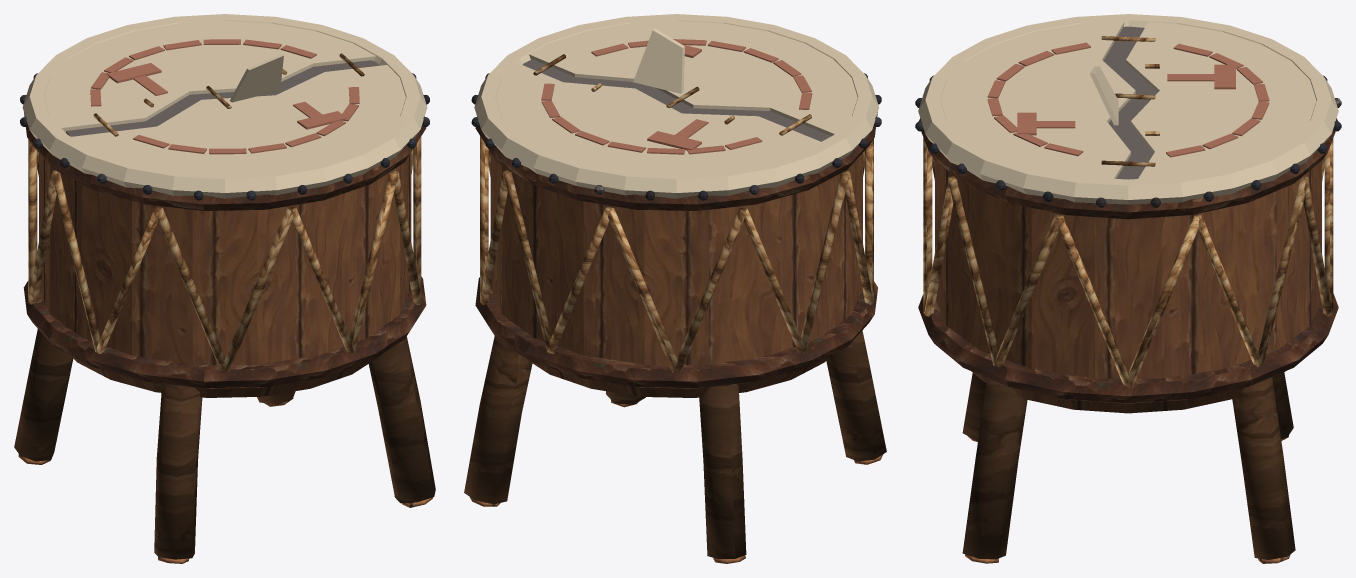
Rendered from war_drum_split.glb.
3 renders of one model, left to right at view 1: azimuth 30°, elevation 25°; view 2: azimuth 150°, elevation 25°; view 3: azimuth 270°, elevation 25°, orthographic. The views are drawn at different scales.
Parts seen in each view (by area): view 1: model; view 2: model; view 3: model.
Boxes of the visible parts, x1,y1,x2,y2 form: model: [14, 14, 435, 563]; model: [464, 14, 886, 563]; model: [915, 14, 1341, 563].
Bounding box in the file's own units: 0.8815 × 1.02 × 0.8815.
Materials: 14 (11 with a texture image).
